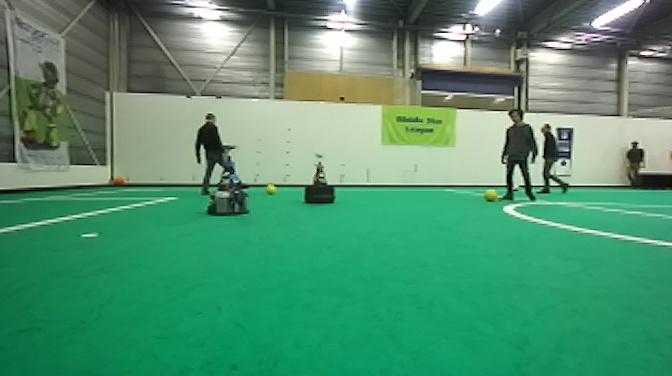ball: (482, 187, 498, 202), (263, 182, 276, 196), (113, 174, 124, 187), (509, 181, 520, 192)
human: (499, 109, 539, 204), (194, 107, 235, 199), (537, 123, 571, 195), (625, 139, 646, 189)
robot: (205, 143, 252, 217), (305, 154, 337, 205)
